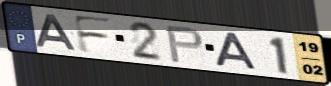1: (267, 35, 290, 75)
2: (127, 21, 164, 63)
A: (214, 31, 260, 72), (34, 14, 79, 52)
F: (71, 14, 115, 56)
P: (164, 25, 206, 65)
